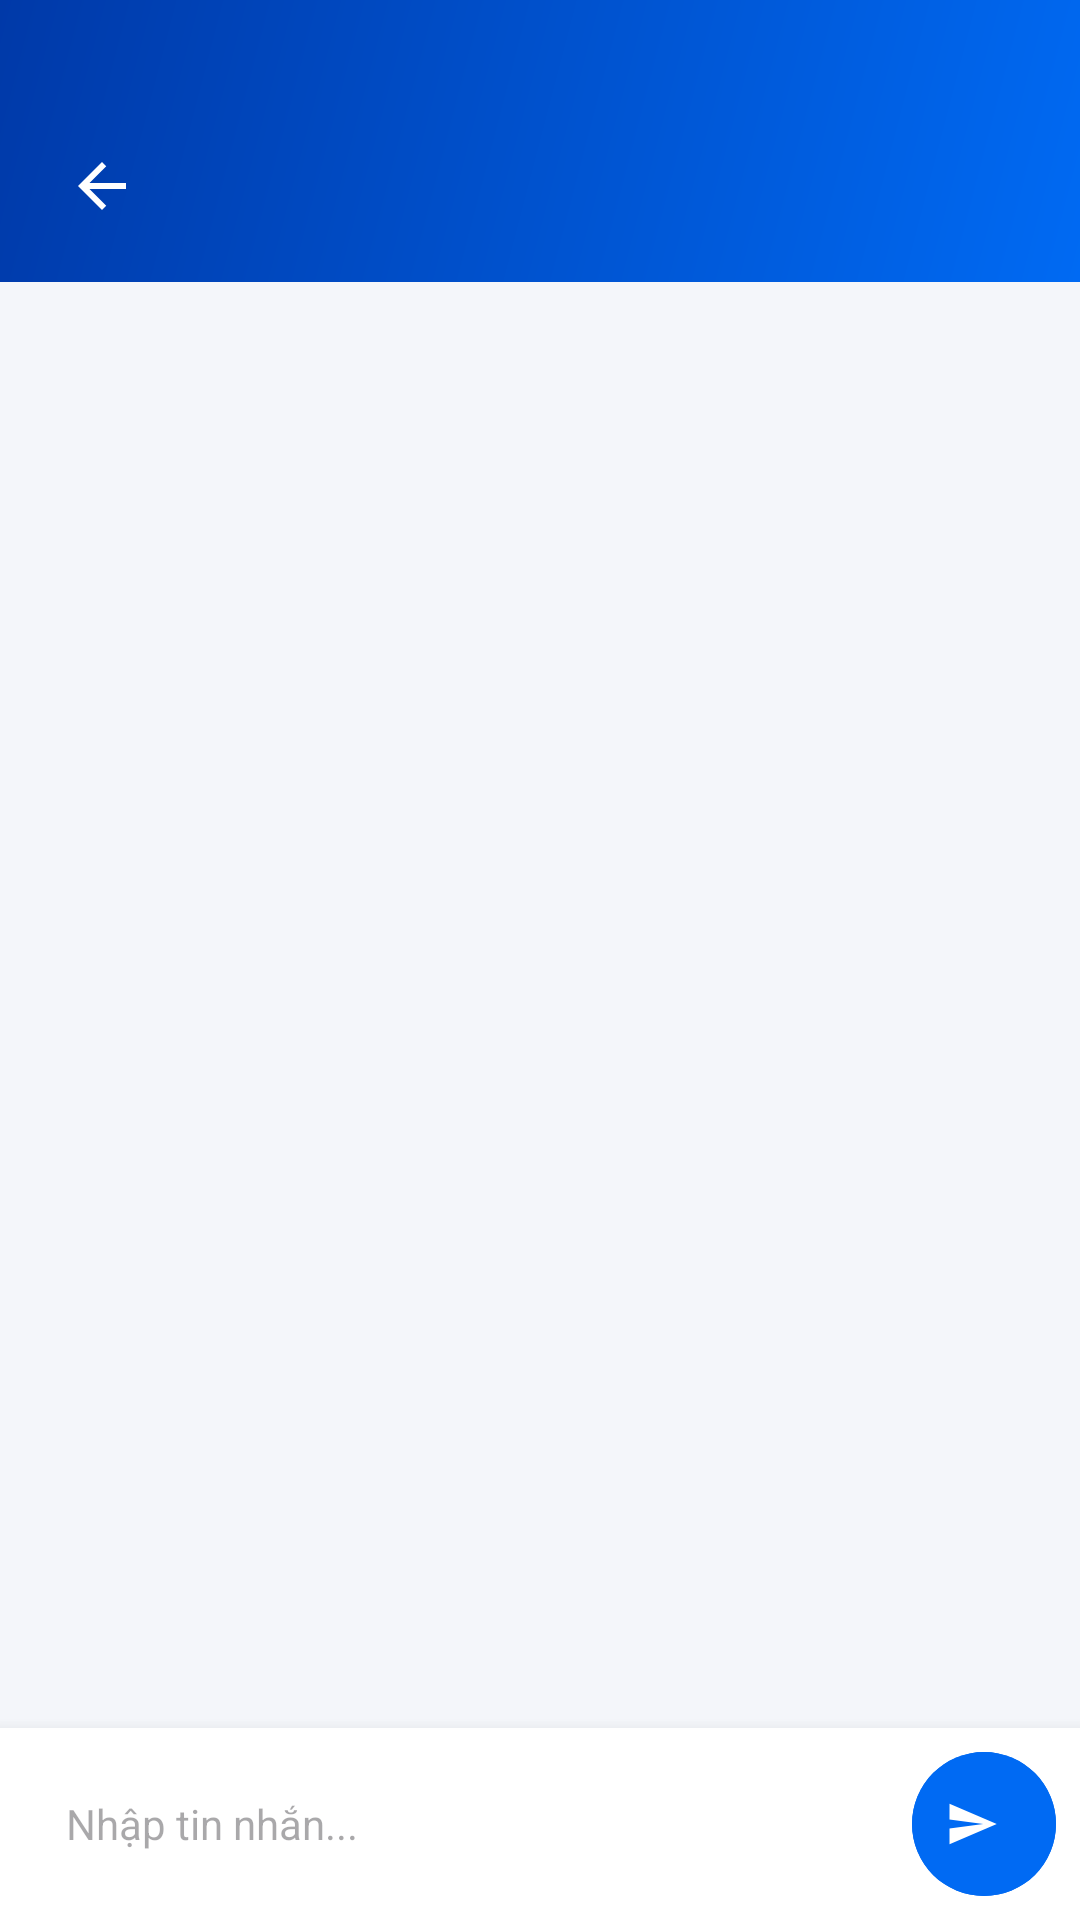

Named icons in this screenshot (1080x1920) and their centers, point (x, y):
arrow back: point (102, 186)
send: point (984, 1824)
